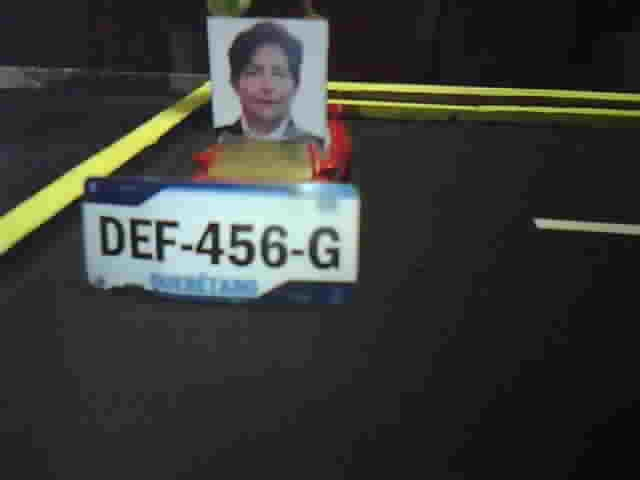PLACA: (81, 176, 363, 308)
ROSTRO: (214, 18, 325, 146)
